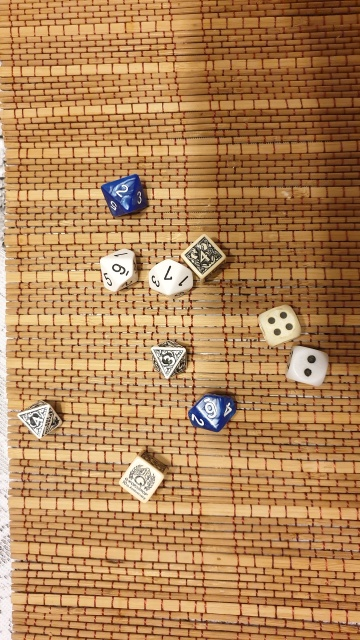d10-2: (95, 170, 154, 220)
d10-6: (183, 392, 244, 436)
d10-7: (145, 256, 198, 301)
d10-9: (90, 246, 140, 295)
d6-2: (281, 345, 332, 389)
d6-4: (252, 298, 303, 346)
d6p-4: (178, 231, 227, 281)
d6p-6: (115, 449, 169, 504)
d8p-3: (148, 339, 194, 383)
d8p-4: (14, 398, 65, 443)
